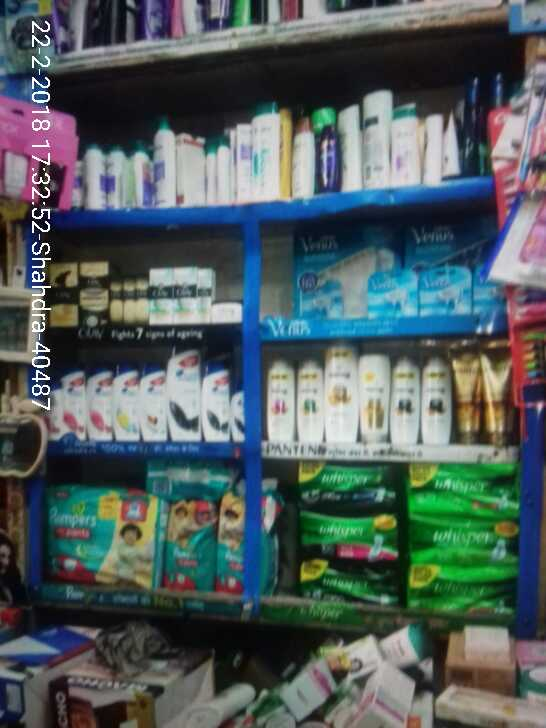venus: (294, 232, 363, 320), (409, 223, 498, 260), (420, 269, 472, 314), (367, 272, 420, 314), (475, 265, 500, 310)
